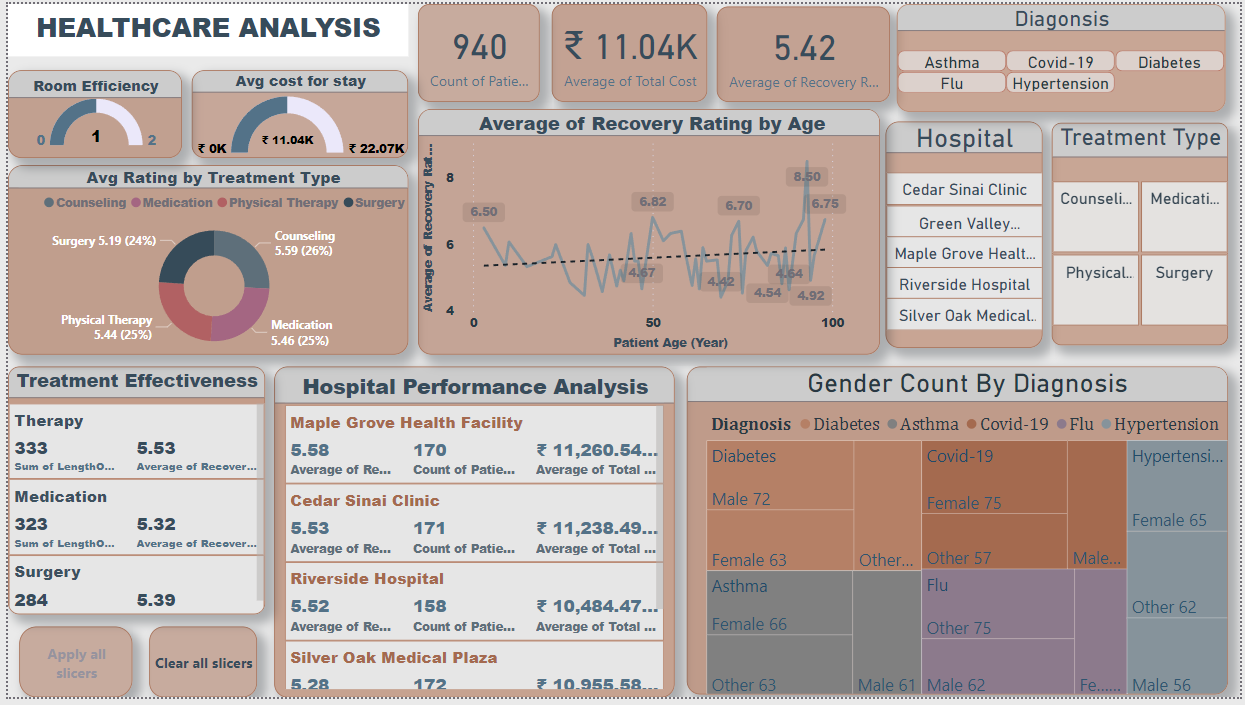

Layout of this report page (visuals, bound fields, positions):
{"tool":"powerbi","page":{"name":"Report1","canvas":[1280,720],"ordinal":0},"visuals":[{"type":"card","fields":{"Values":["Avg(Patient_Medical_Records.TotalCost)"]},"box":[564.7,0,161.9,89.3],"z":0},{"type":"card","fields":{"Values":["CountNonNull(Patient_Medical_Records.PatientID)"]},"box":[426.2,0,126.4,89.6],"z":1000},{"type":"card","fields":{"Values":["Avg(Patient_Medical_Records.Recovery Rating)"]},"box":[736.2,2.9,170.7,86.8],"z":2000},{"type":"advancedSlicerVisual","title":"Hospital","fields":{"Values":["Patient_Medical_Records.Hospitalname"]},"box":[887.4,128.6,168,231.1],"z":3000},{"type":"advancedSlicerVisual","title":"Treatment Type","fields":{"Values":["Patient_Medical_Records.TreatmentType"]},"box":[1064.9,128.6,202.5,231.1],"z":4000},{"type":"advancedSlicerVisual","title":"Diagonsis","fields":{"Values":["Patient_Medical_Records.Diagnosis"]},"box":[919.6,0,346.6,112],"z":5000},{"type":"treemap","title":"Gender Count By Diagnosis","fields":{"Group":["Patient_Medical_Records.Diagnosis"],"Details":["Patient_Medical_Records.Gender"],"Values":["CountNonNull(Patient_Medical_Records.PatientID)"]},"box":[705.2,375.2,561,344.2],"z":6000},{"type":"actionButton","box":[11.8,646.6,117.6,73.5],"z":7000},{"type":"actionButton","box":[147,646.6,111.7,73.5],"z":8000},{"type":"multiRowCard","title":"Hospital Performance Analysis","fields":{"Values":["Patient_Medical_Records.Hospitalname","Avg(Patient_Medical_Records.RecoveryRating)","CountNonNull(Patient_Medical_Records.PatientID)","Avg(Patient_Medical_Records.TotalCost)"]},"box":[276.3,376.2,415.9,343.9],"z":9000},{"type":"multiRowCard","title":"Treatment Effectiveness","fields":{"Values":["Sum(Patient_Medical_Records.LengthOfStay)","Avg(Patient_Medical_Records.RecoveryRating)","Patient_Medical_Records.Treatment"]},"box":[0,376,259.2,257.9],"z":10000},{"type":"gauge","title":"Avg cost for stay","fields":{"Y":["Avg(Patient_Medical_Records.TotalCost)"]},"box":[191,69.1,224.8,82.3],"z":11000},{"type":"textbox","box":[0,0,416.2,54.7],"z":12000},{"type":"pieChart","title":"Avg Rating by Treatment Type","fields":{"Category":["Patient_Medical_Records.TreatmentType"],"Y":["Patient_Medical_Records.TreatmentTypeAvgRating"]},"box":[0,167.5,415.9,192.5],"z":13000},{"type":"gauge","title":"Room Efficiency","fields":{"Y":["Patient_Medical_Records.RoomEfficiency"]},"box":[0,69.1,174.9,86.7],"z":14000},{"type":"lineChart","title":"Average of Recovery Rating by Age","fields":{"Category":["Patient_Medical_Records.Age"],"Y":["Avg(Patient_Medical_Records.Recovery Rating)"]},"box":[426.4,109.6,452.6,250.1],"z":15000}]}

Visuals, with their boxes in screenshot pixels (x1, y1, x2, y2), scaled from the page's 1280x720 canvas onto the 1245x705 screenshot:
card - Avg(Patient_Medical_Records.TotalCost): box=[549, 0, 707, 87]
card - CountNonNull(Patient_Medical_Records.PatientID): box=[415, 0, 537, 88]
card - Avg(Patient_Medical_Records.Recovery Rating): box=[716, 3, 882, 88]
"Hospital" advancedSlicerVisual: box=[863, 126, 1027, 352]
"Treatment Type" advancedSlicerVisual: box=[1036, 126, 1233, 352]
"Diagonsis" advancedSlicerVisual: box=[894, 0, 1232, 110]
"Gender Count By Diagnosis" treemap: box=[686, 367, 1232, 704]
actionButton: box=[11, 633, 126, 704]
actionButton: box=[143, 633, 252, 704]
"Hospital Performance Analysis" multiRowCard: box=[269, 368, 673, 704]
"Treatment Effectiveness" multiRowCard: box=[0, 368, 252, 621]
"Avg cost for stay" gauge: box=[186, 68, 404, 148]
textbox: box=[0, 0, 405, 54]
"Avg Rating by Treatment Type" pieChart: box=[0, 164, 405, 352]
"Room Efficiency" gauge: box=[0, 68, 170, 153]
"Average of Recovery Rating by Age" lineChart: box=[415, 107, 855, 352]
